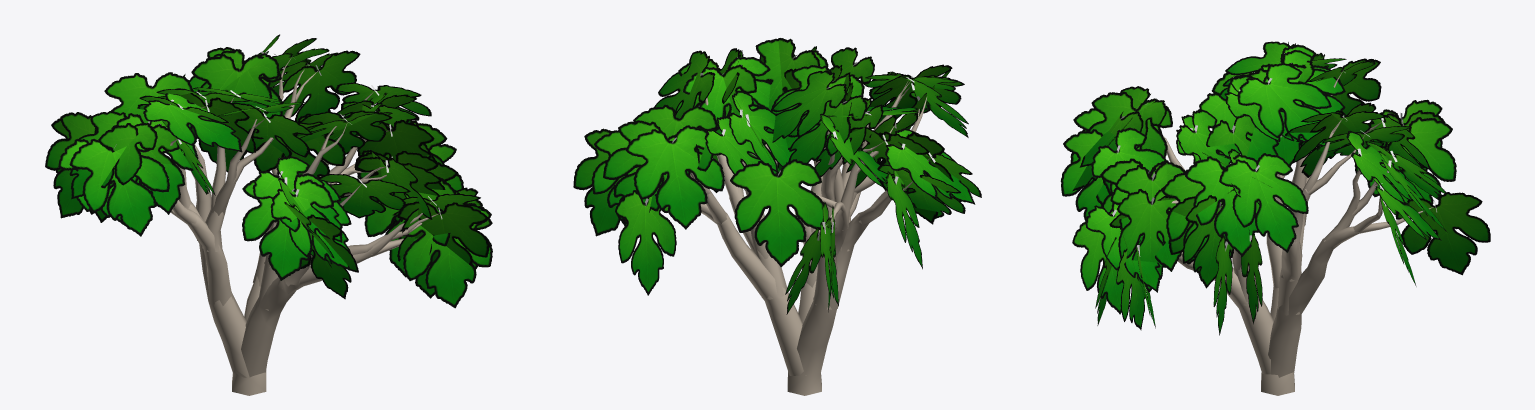
Rendered from Stage 3 Asset.fbx.
3 renders of one model, left to right at view 1: azimuth 30°, elevation 25°; view 2: azimuth 150°, elevation 25°; view 3: azimuth 270°, elevation 25°, orthographic.
Visible parts, largest first — view 1: leaves.012|foglia fico immagine|Dupli|, tree.011, leaves.012; view 2: leaves.012|foglia fico immagine|Dupli|, tree.011, leaves.012; view 3: leaves.012|foglia fico immagine|Dupli|, tree.011, leaves.012.
Part boxes in pixels (x1,y1,x2,y2): leaves.012|foglia fico immagine|Dupli|: (45, 34, 492, 308); tree.011: (170, 57, 439, 395); leaves.012: (113, 51, 442, 219); leaves.012|foglia fico immagine|Dupli|: (573, 38, 981, 314); tree.011: (690, 81, 930, 395); leaves.012: (645, 55, 935, 240); leaves.012|foglia fico immagine|Dupli|: (1060, 41, 1490, 335); tree.011: (1163, 71, 1433, 395); leaves.012: (1112, 71, 1436, 256).
Size of the model in its own units: 1158 by 1242 by 895.
